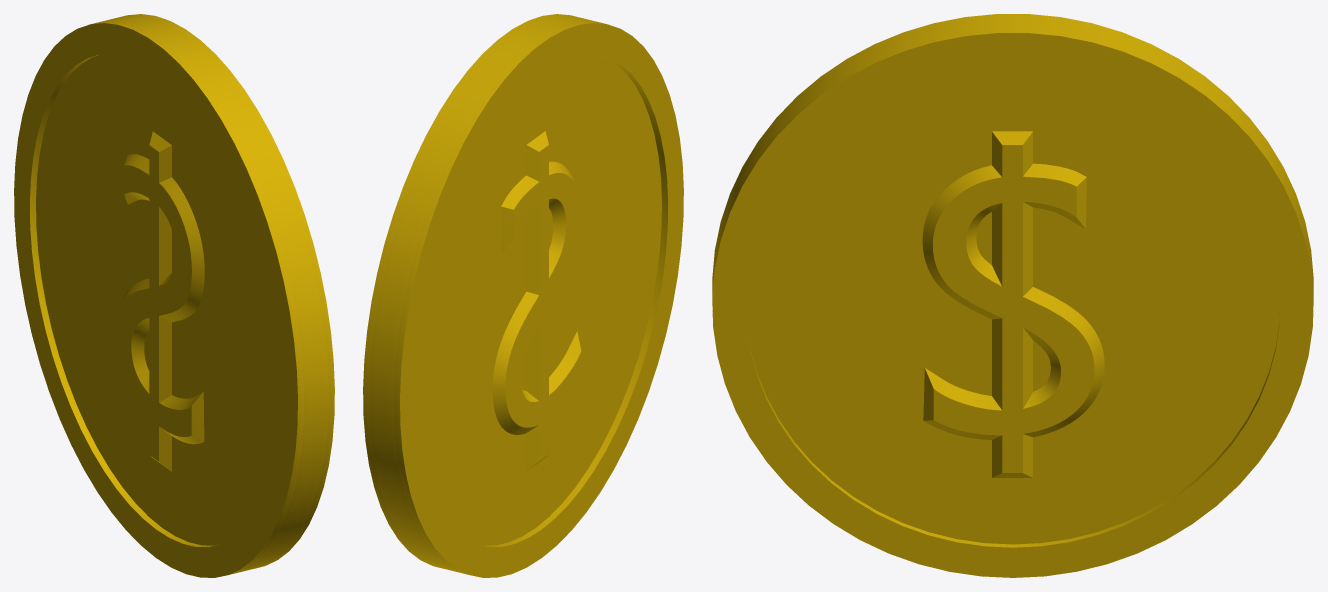
The model's file is dolaaaaar.fbx.
The picture shows the model from 3 angles, left to right: view 1: azimuth 30°, elevation 25°; view 2: azimuth 150°, elevation 25°; view 3: azimuth 270°, elevation 25°; orthographic projection. The views are drawn at different scales.
Visible parts, largest first — view 1: Cylinder, Cap_2, Rounding_2; view 2: Cylinder, Cap_2, Rounding_2; view 3: Cylinder, Cap_1, Rounding_1.
Part boxes in pixels (x1,y1,x2,y2): Cylinder: (14,14,334,577); Cap_2: (115,145,191,461); Rounding_2: (121,131,204,471); Cylinder: (363,14,683,577); Cap_2: (505,145,581,461); Rounding_2: (492,131,581,471); Cylinder: (712,14,1313,577); Cap_1: (933,145,1094,472); Rounding_1: (922,131,1104,477).
Size of the model in its own units: 33.59 by 400 by 400.
